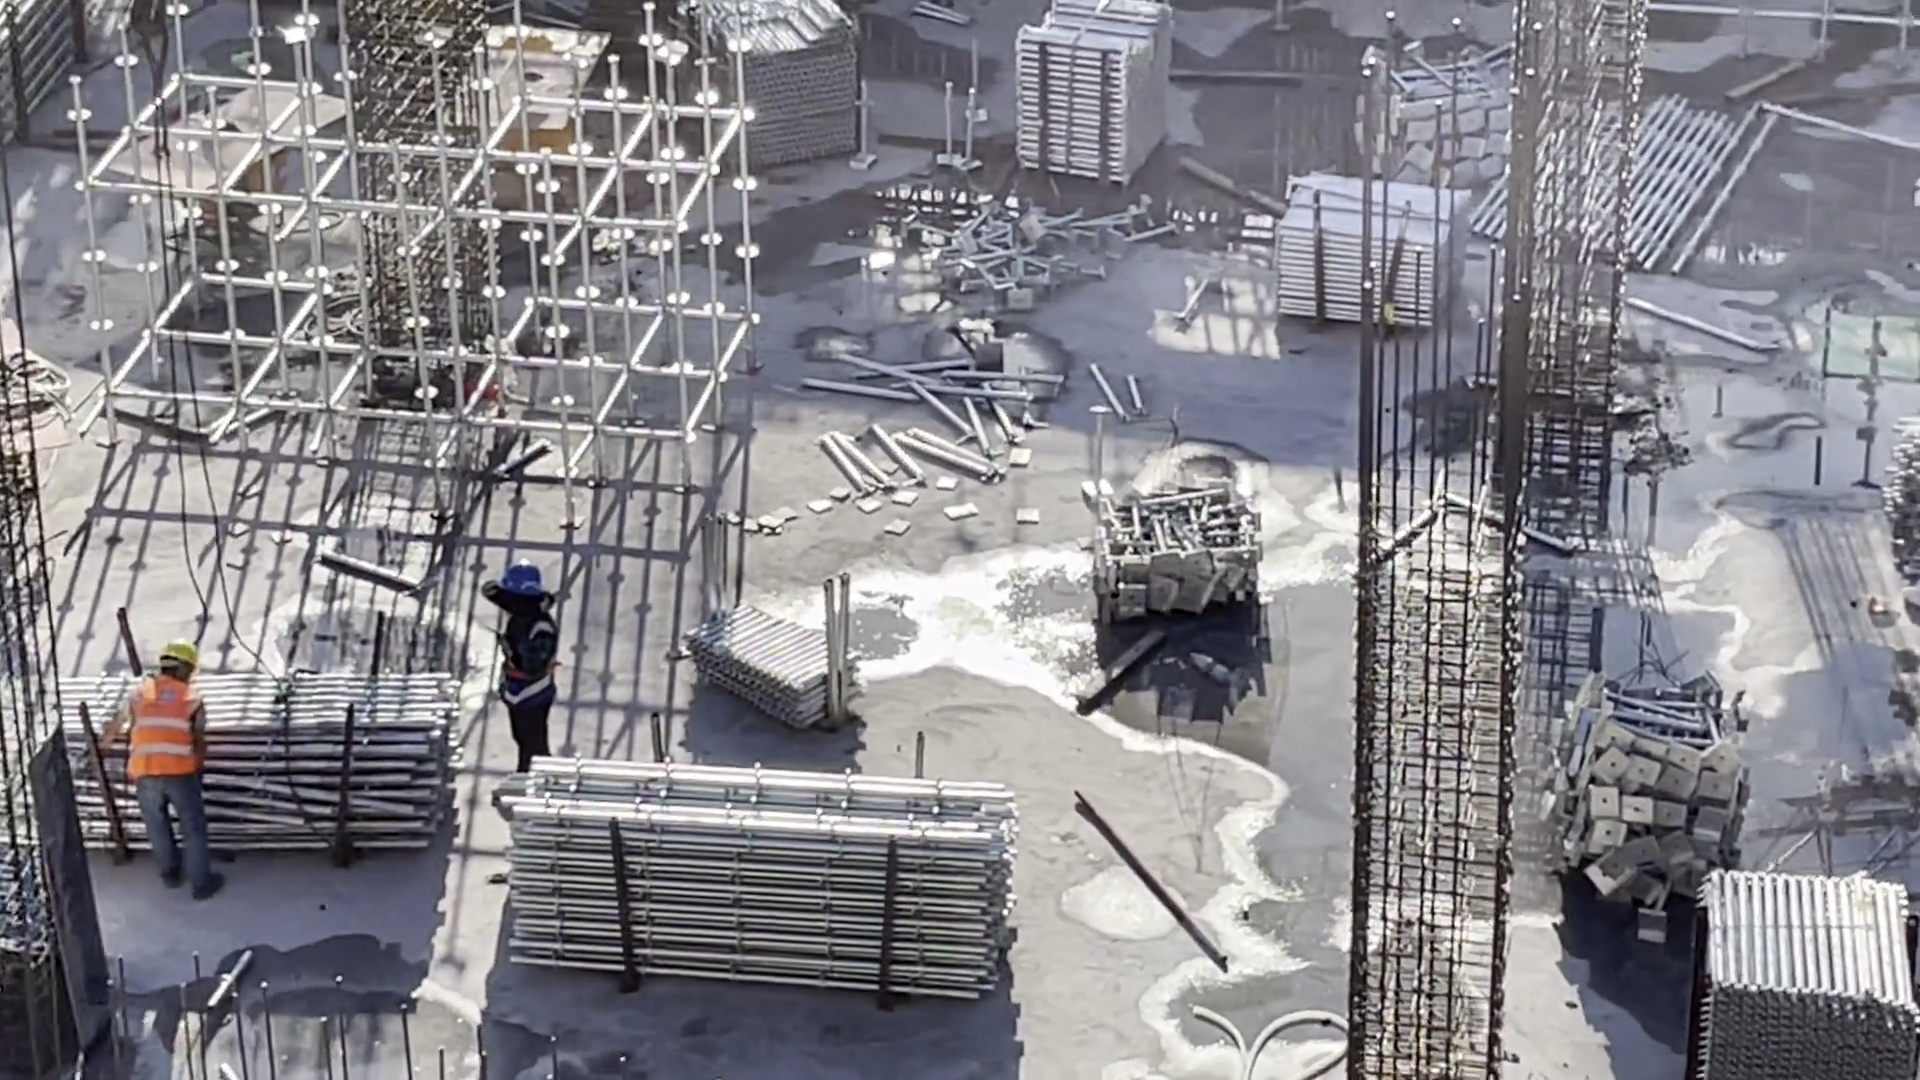cutter: (111, 67, 354, 238), (455, 17, 610, 189)
helmet: (158, 631, 200, 679), (503, 565, 547, 608)
person: (121, 645, 236, 901), (454, 553, 574, 793)
scaffold: (500, 755, 1021, 1000), (1, 664, 473, 851), (1701, 866, 1920, 1070), (1569, 683, 1756, 914), (1277, 165, 1485, 341), (1003, 1, 1175, 188), (713, 1, 887, 160), (1363, 52, 1535, 192), (1083, 474, 1261, 609), (700, 580, 864, 716)
vest: (127, 679, 201, 778), (493, 620, 551, 698)
